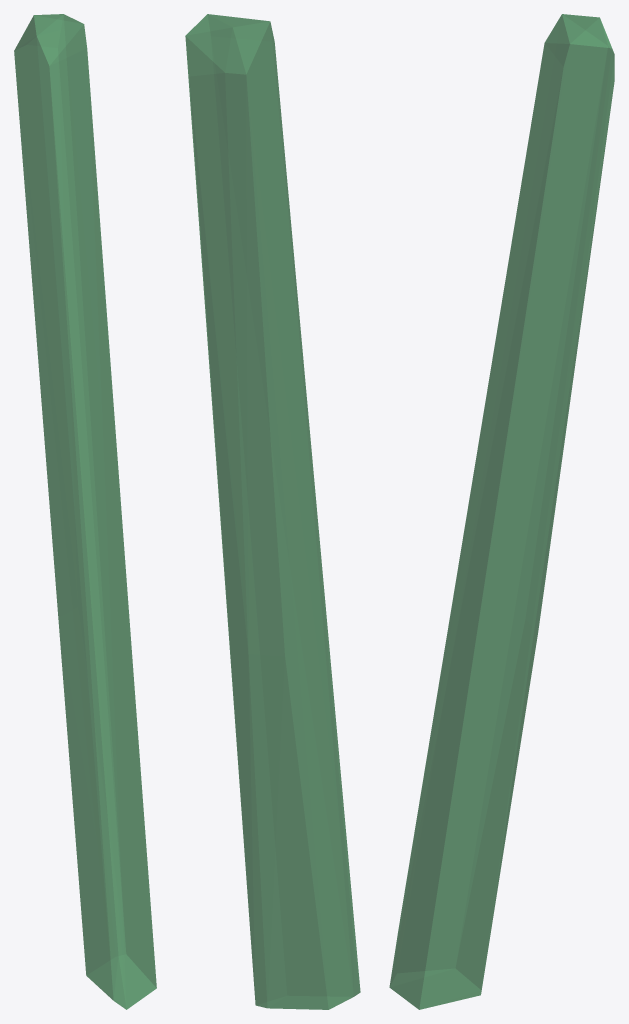
3 views of the same model, side by side, from view 1: azimuth 30°, elevation 25°; view 2: azimuth 150°, elevation 25°; view 3: azimuth 270°, elevation 25° (orthographic). The views are drawn at different scales.
Parts seen in each view (by area): view 1: Shape_IndexedFaceSet.008_Shape_IndexedFaceSet.6415; view 2: Shape_IndexedFaceSet.008_Shape_IndexedFaceSet.6415; view 3: Shape_IndexedFaceSet.008_Shape_IndexedFaceSet.6415.
Boxes of the visible parts, left/top/right/bottom form: Shape_IndexedFaceSet.008_Shape_IndexedFaceSet.6415: left=14, top=14, right=156, bottom=1009; Shape_IndexedFaceSet.008_Shape_IndexedFaceSet.6415: left=185, top=14, right=360, bottom=1009; Shape_IndexedFaceSet.008_Shape_IndexedFaceSet.6415: left=389, top=14, right=614, bottom=1009.
Size of the model in its own units: 0.0658 by 1.08 by 0.2254.
